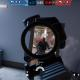Character: (36, 37, 50, 63)
Friend_label: (12, 35, 16, 37)
Head: (42, 37, 46, 42)
